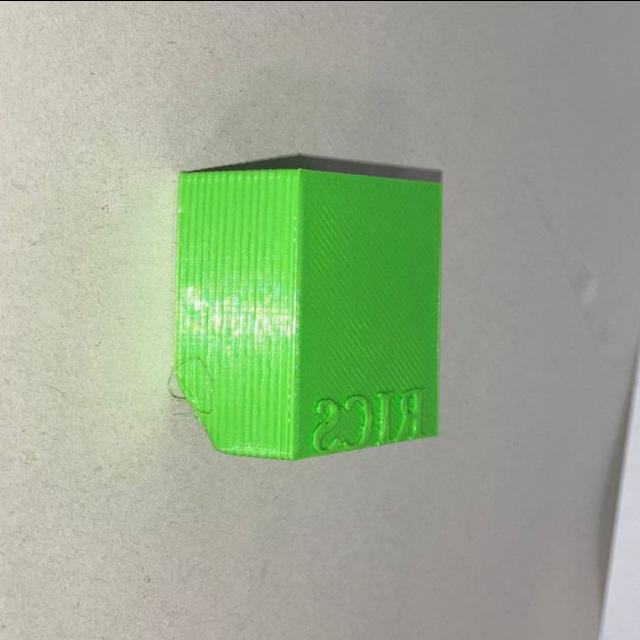Warping: (173, 365, 230, 451)
